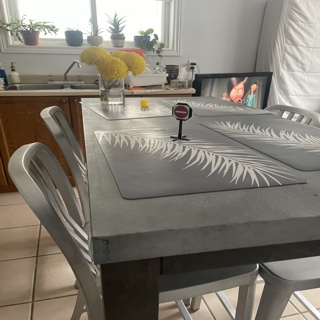sign_noentry: (171, 103, 187, 119)
